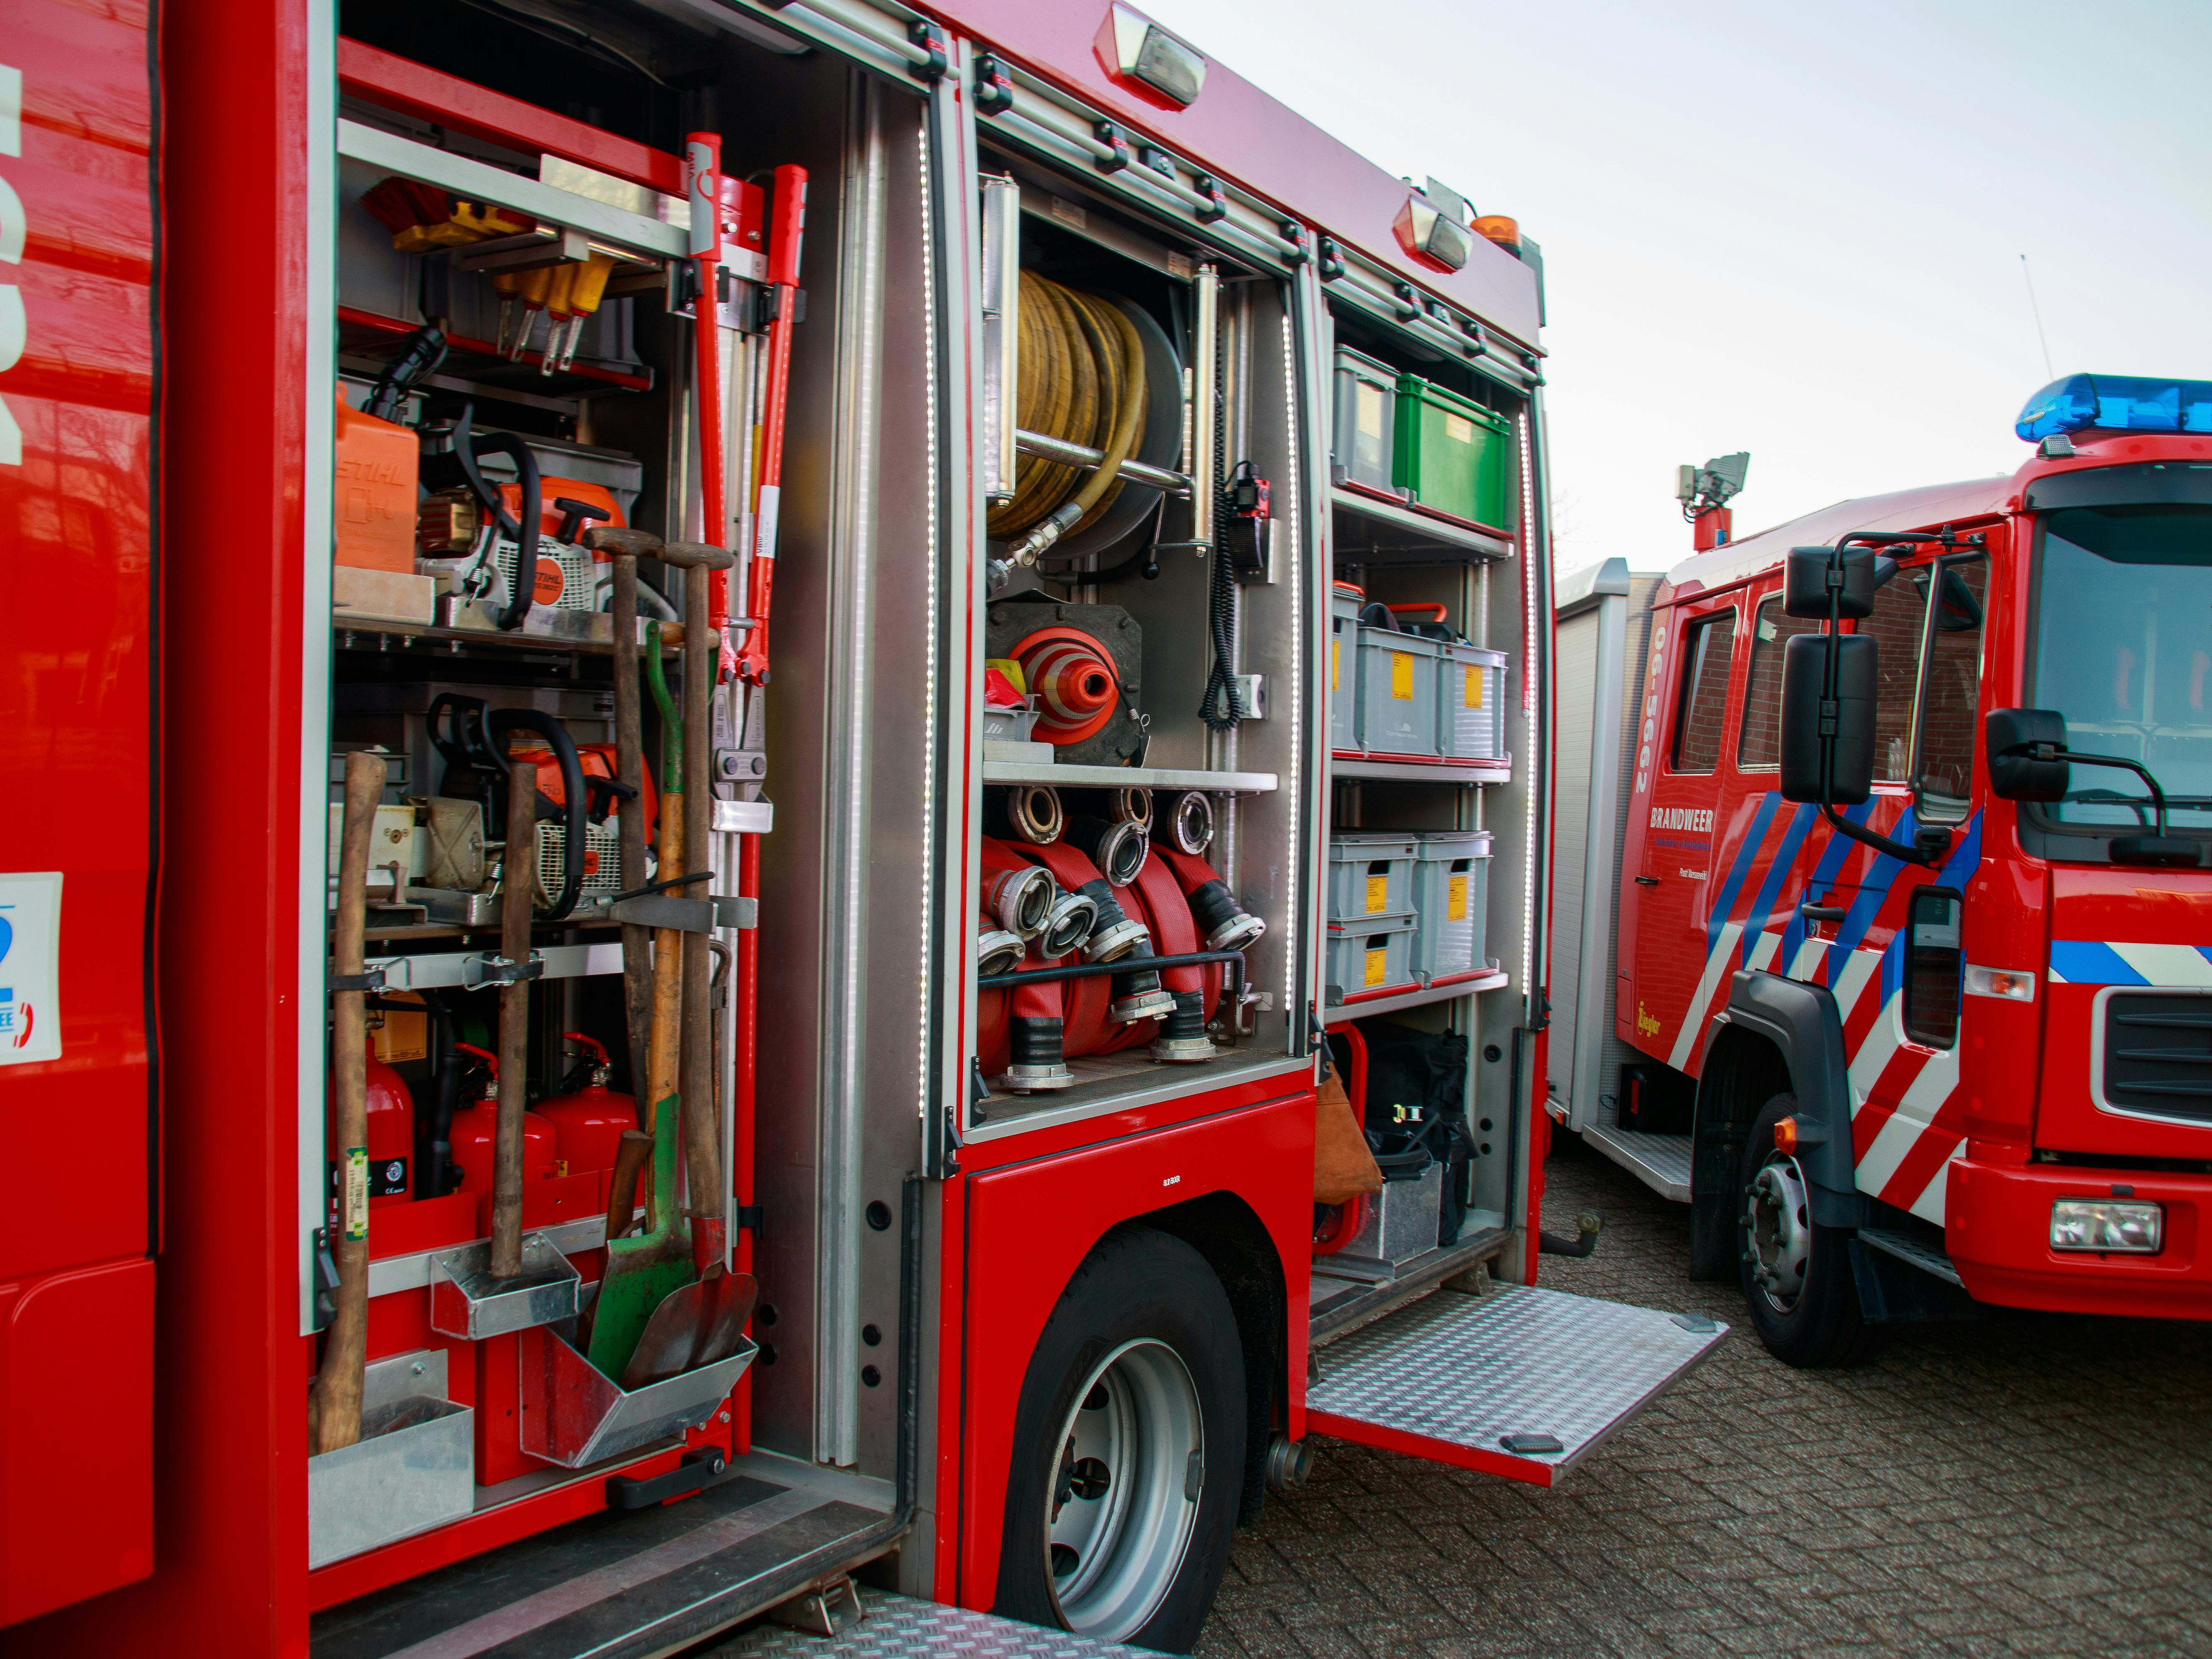extintor: (320, 995, 421, 1216), (450, 1038, 558, 1194), (552, 1027, 641, 1177)
